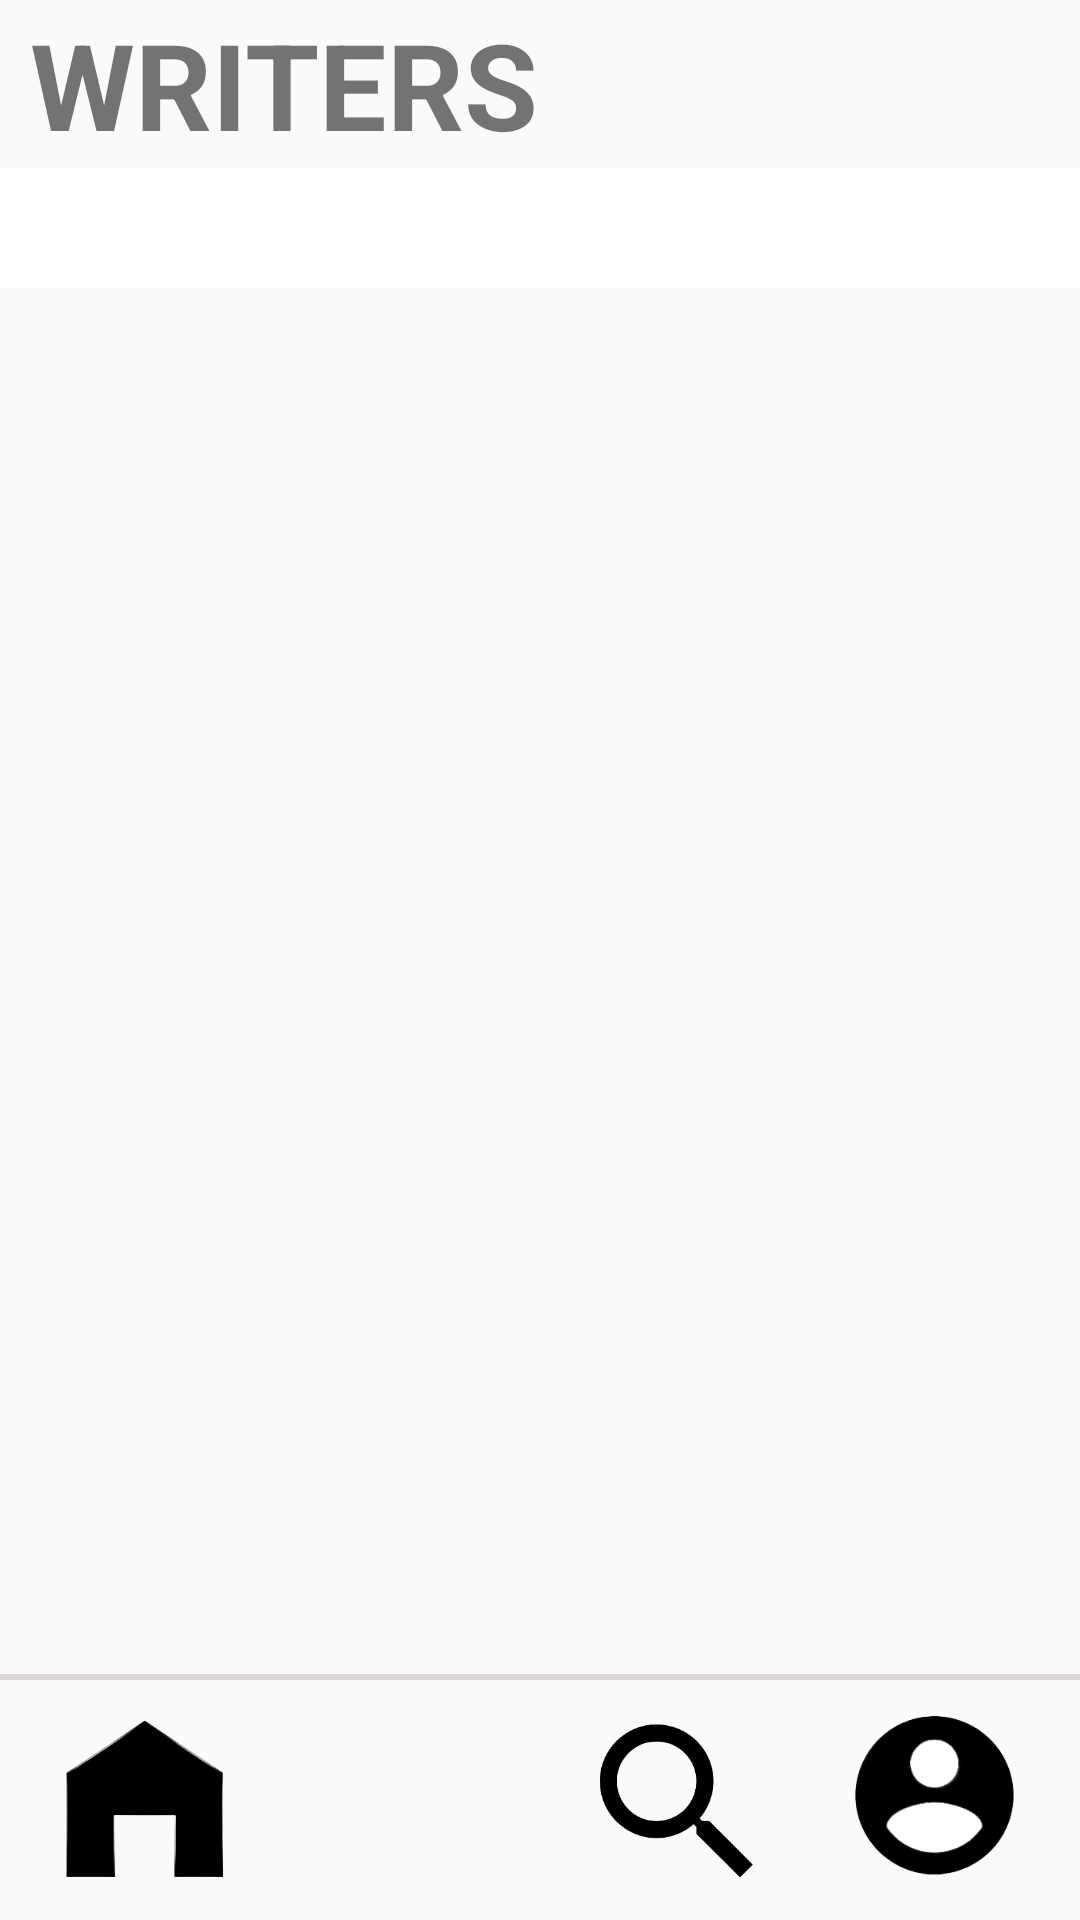

Point at icon controls on the screen. Image size 1080*1920, points as [x,y].
home: [144,1799]
검색: [676,1801]
내 정보: [934,1795]
